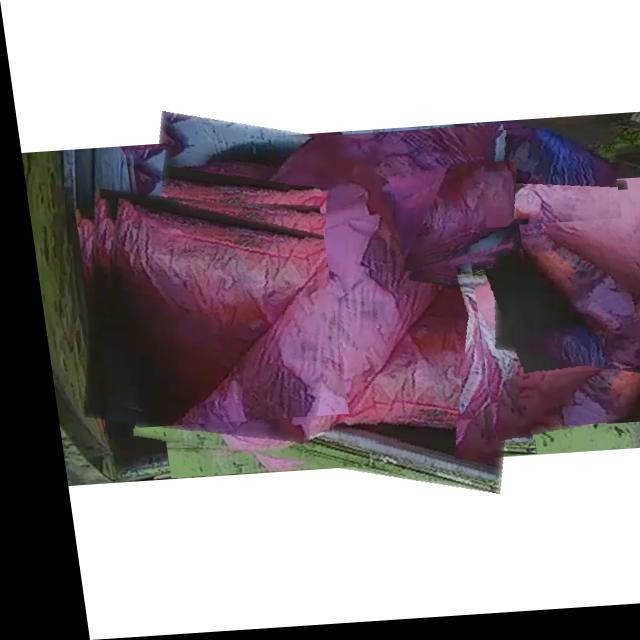other_trashbag: (138, 139, 523, 455), (99, 199, 318, 428), (466, 254, 640, 446), (508, 185, 640, 376), (477, 136, 611, 228), (395, 169, 507, 276)
